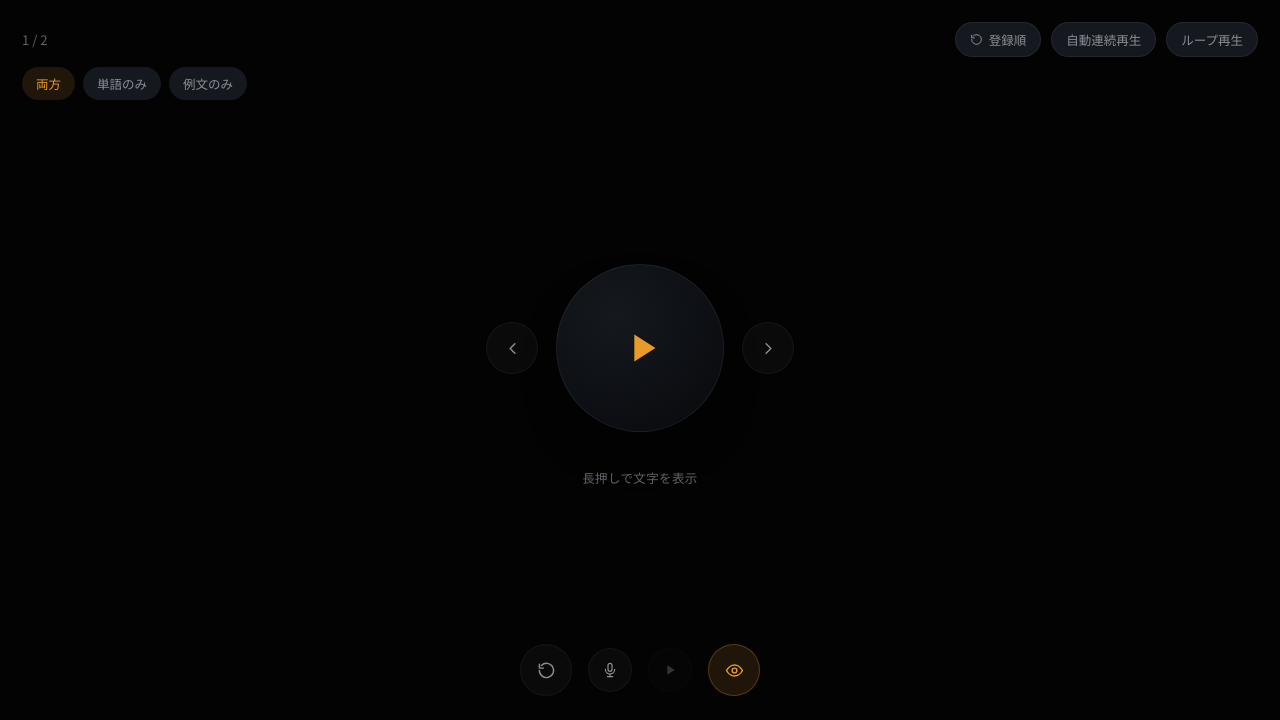
Test: shows a counter and next/prev controls
expect the text "1 / 2" is shown: met, box 22,30 -> 47,49
Click the button named "次": (768, 348) 742,322 -> 794,374
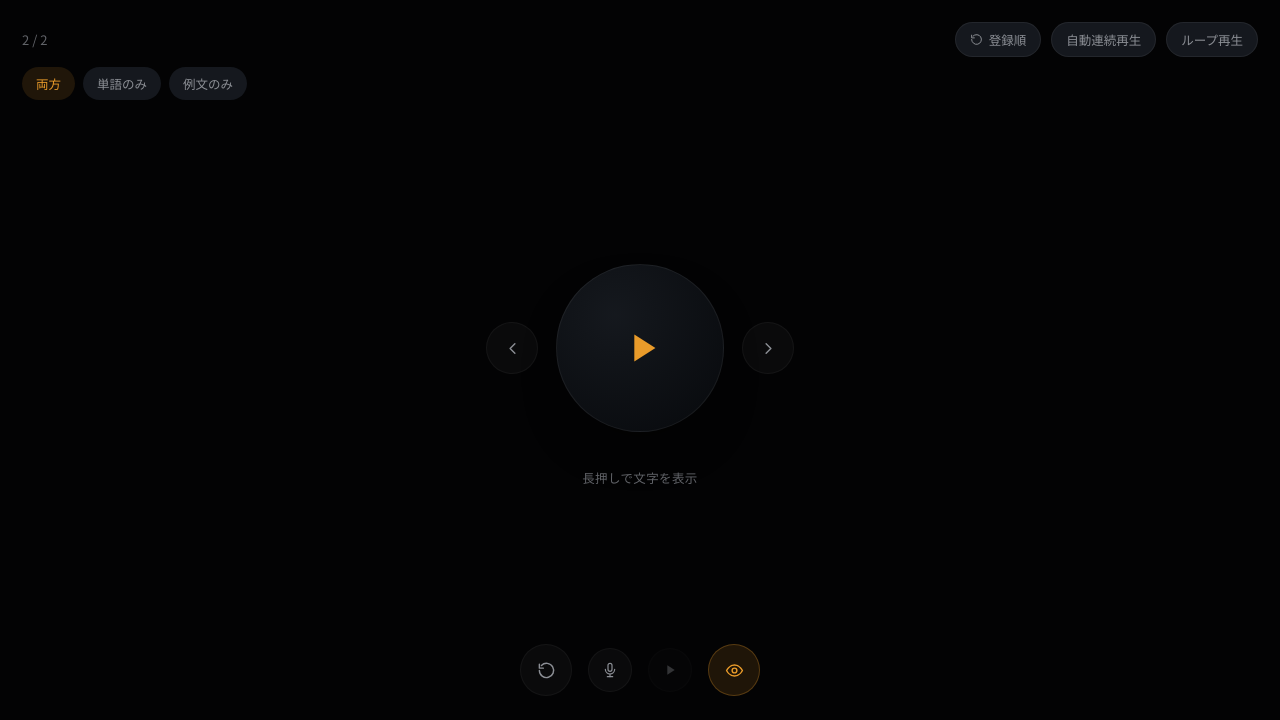
expect the text "2 / 2" is shown: met, box 22,30 -> 47,49
Click the button named "前": (512, 348) 486,322 -> 538,374
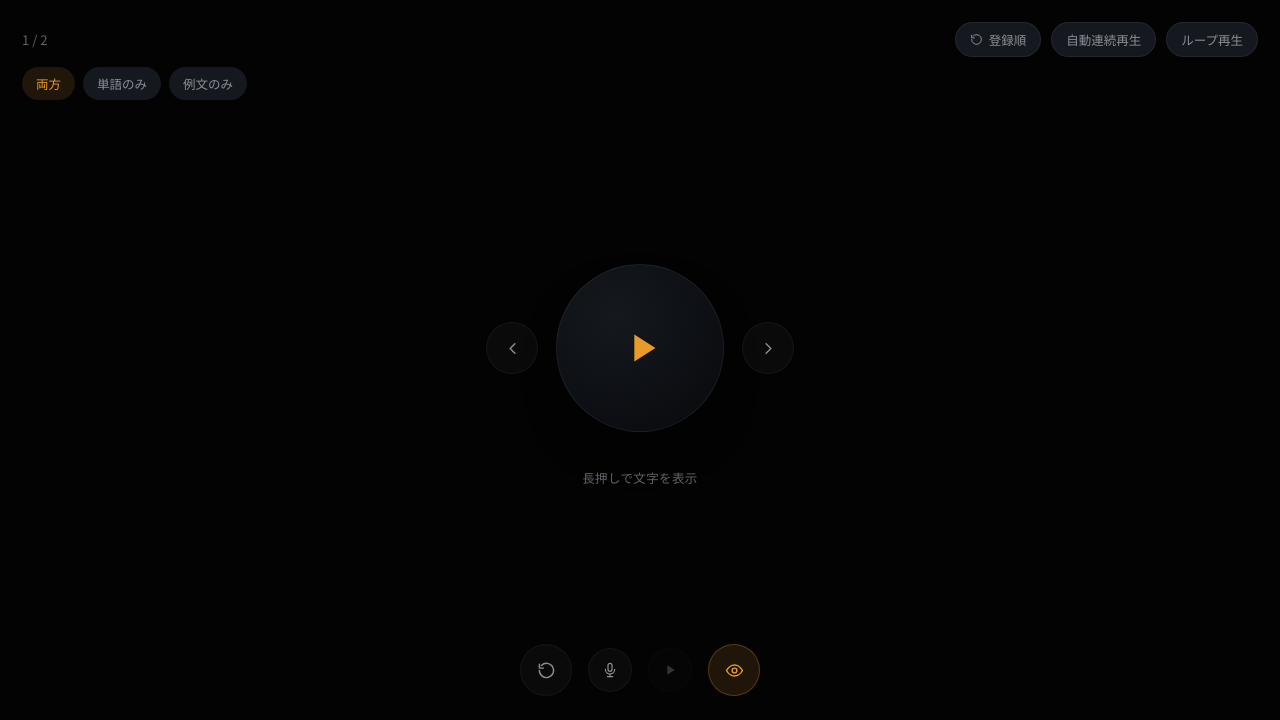
expect the text "1 / 2" is shown: met, box 22,30 -> 47,49
